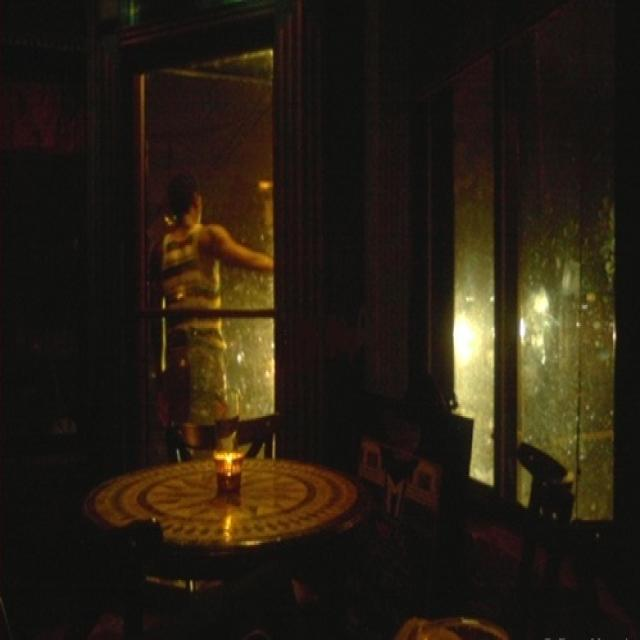People: (152, 156, 253, 422)
Table: (89, 421, 362, 613)
chair: (477, 427, 591, 640)
